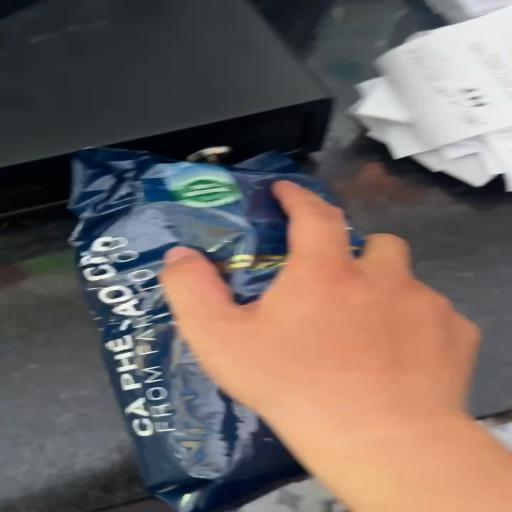cafe_hat: (70, 148, 331, 512)
